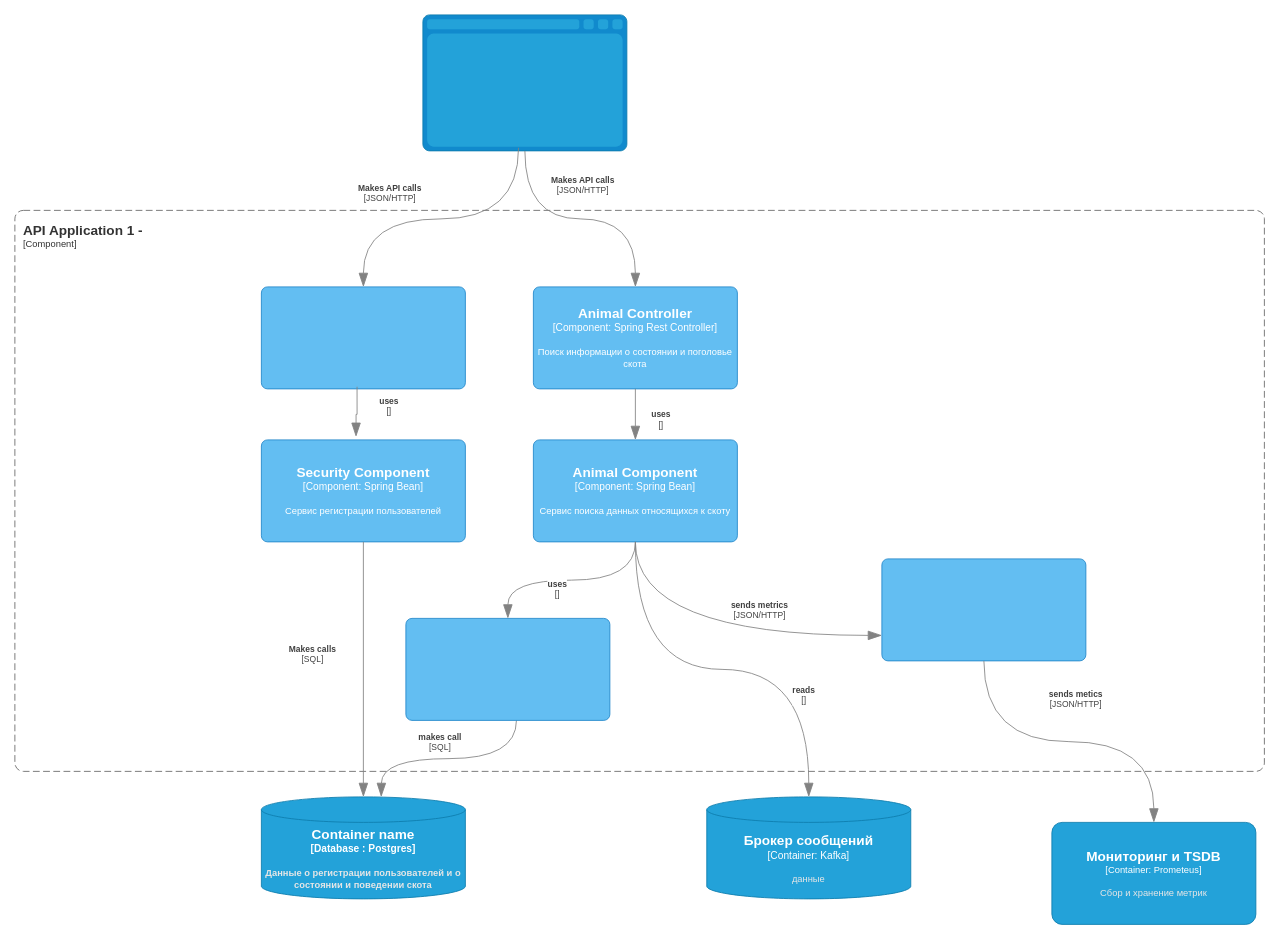
The diagram is 1279 pixels wide and 939 high, and some of its shapes have lost their labels. The shapes that lost their labels are listed below. From the top down, each one's box as (x1, y1, x2, y2) in pixels, then its label:
(422, 14, 627, 151): Web portal [Container: react] Управление хозяйством
(261, 286, 465, 389): Sign In Controller [Component: Spring Rest Controller] Регистрация пользователей
(881, 558, 1086, 661): Actuator Component [Component: Spring Bean] Сервис регистрации метрик
(405, 618, 610, 720): Animal DAO Component [Component: Spring Bean] Сервис доступа к данным
